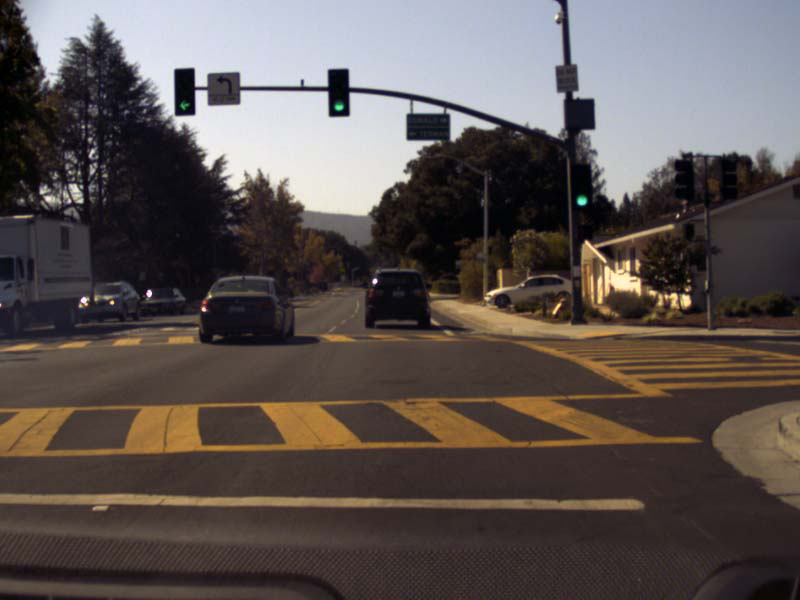Green: (328, 69, 349, 116), (174, 67, 194, 115), (572, 163, 590, 209)
